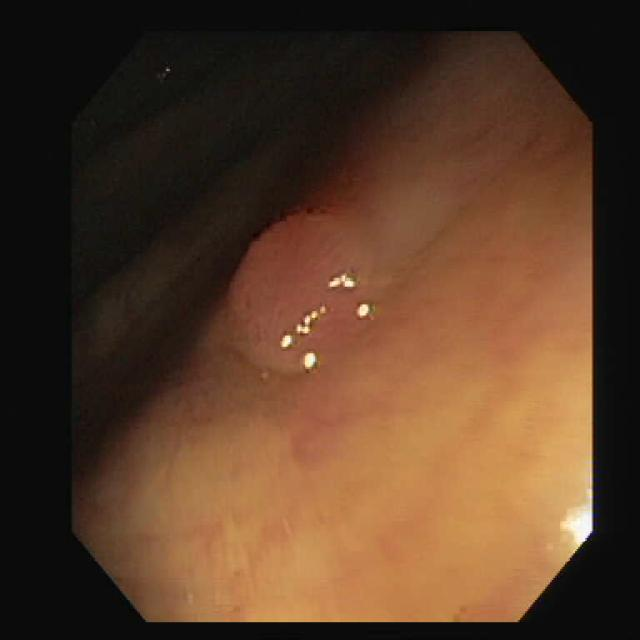tumor: (223, 213, 360, 371)
